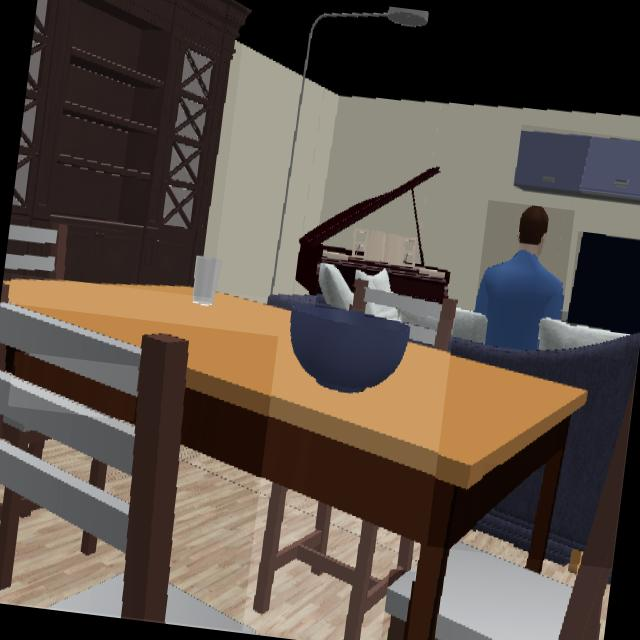bookshelf: (10, 0, 246, 281)
cabinet: (514, 132, 640, 203)
chair: (0, 304, 242, 630), (435, 382, 634, 640), (386, 572, 414, 640)
monitor: (567, 232, 640, 332)
person: (475, 205, 563, 350)
pillow: (538, 318, 626, 350), (319, 264, 352, 311), (356, 268, 391, 291), (364, 305, 398, 320)
sofa: (450, 334, 640, 563), (476, 470, 541, 546)
table: (10, 284, 585, 640), (13, 353, 136, 421)
